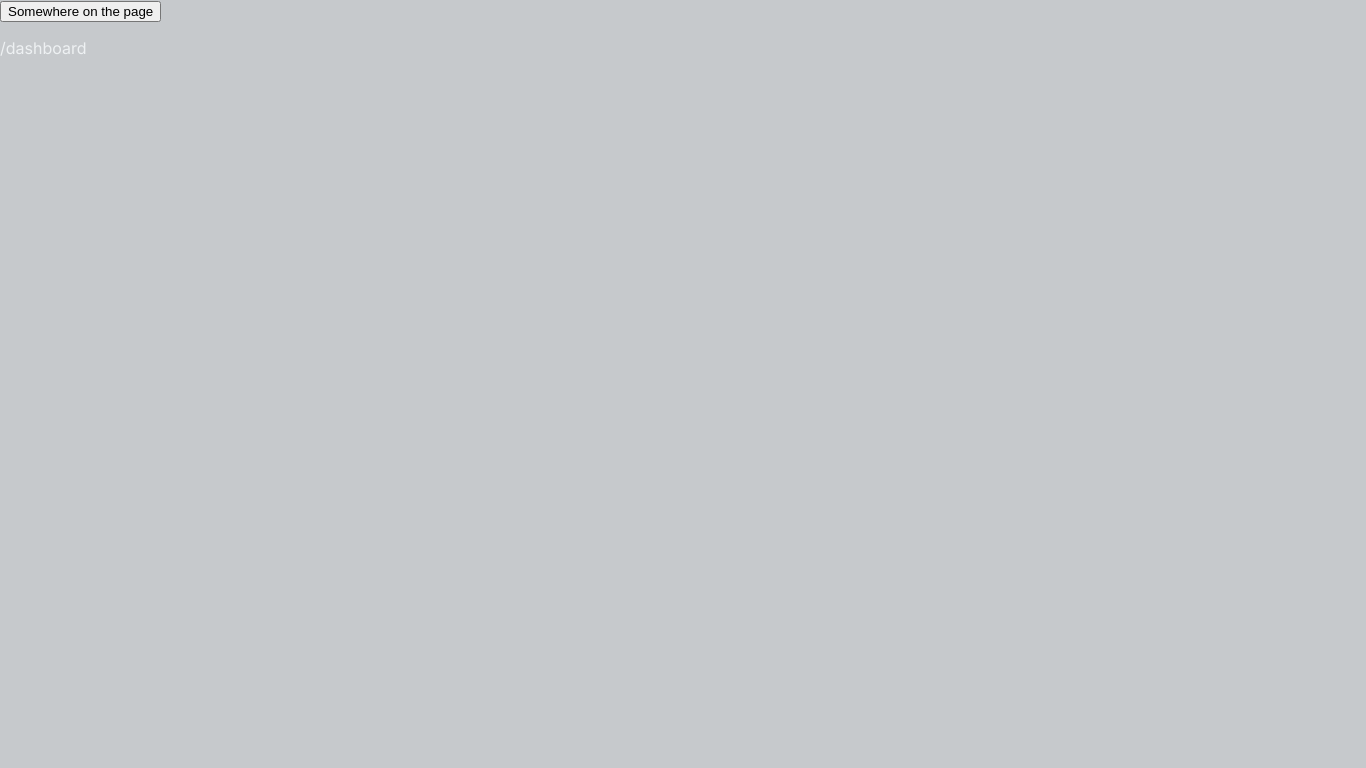
CommandPalette › finds transactions by description and shows amounts as signed pounds
The width and height of the screenshot is (1366, 768).
Type keys "{Control>}k{/Control}"
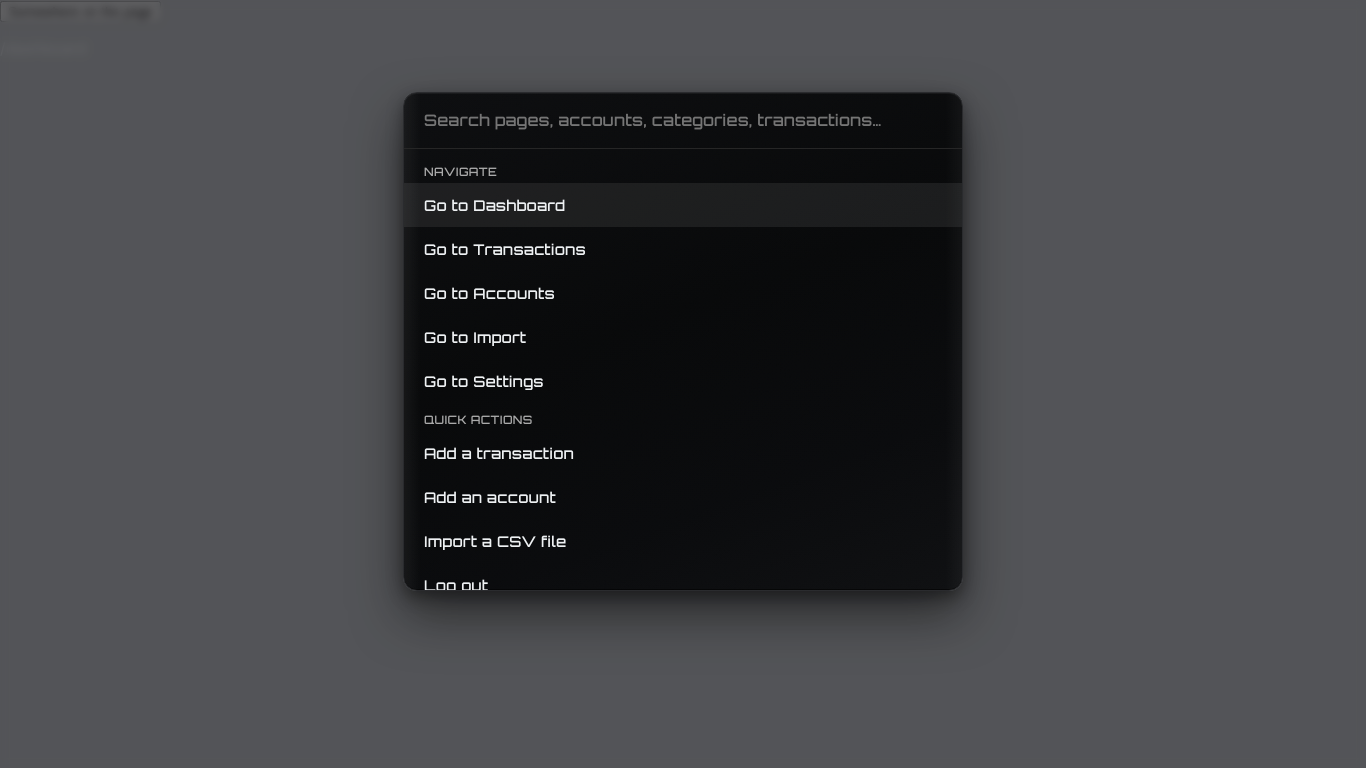
In the dropdown: coordinates (683, 121) [404, 93, 962, 149], type "fernhollow"
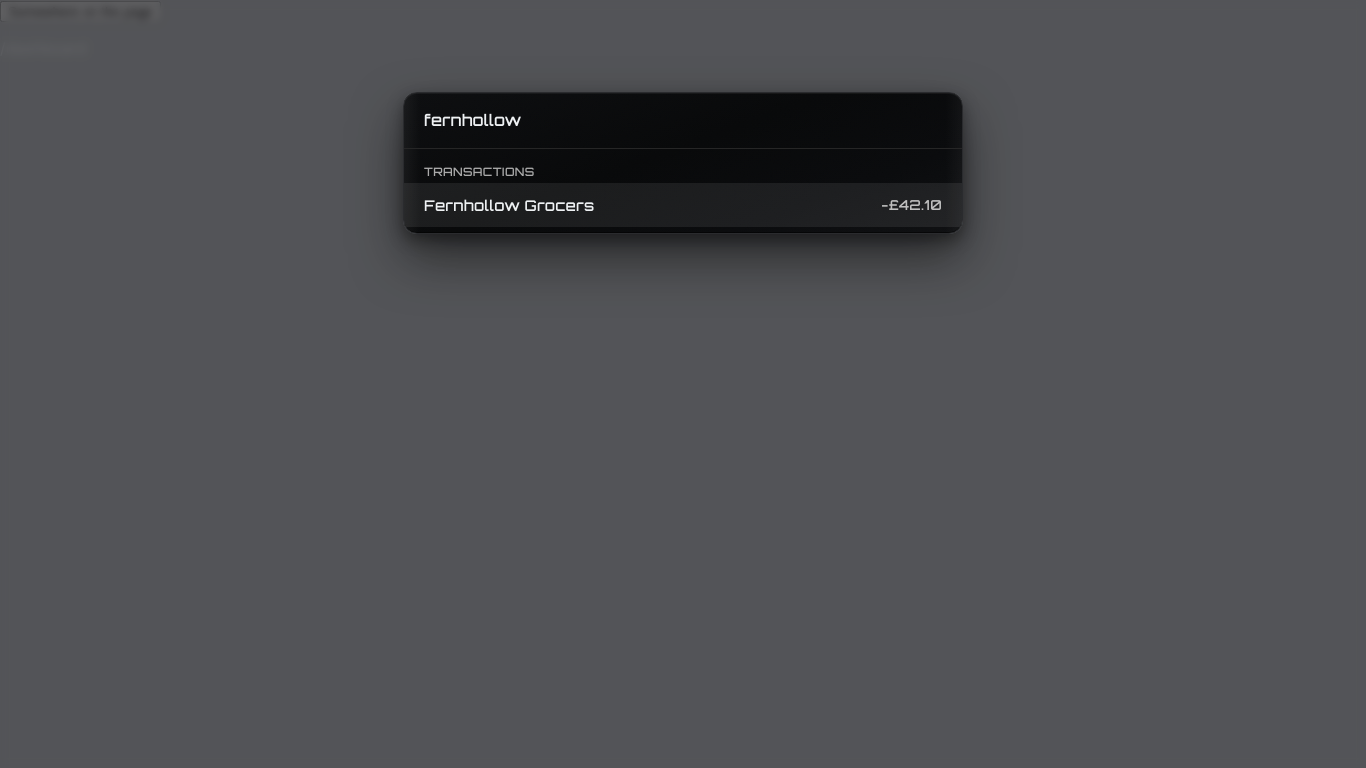
Check: the option "Fernhollow Grocers −£42.10" is shown, box [404, 183, 962, 227]
